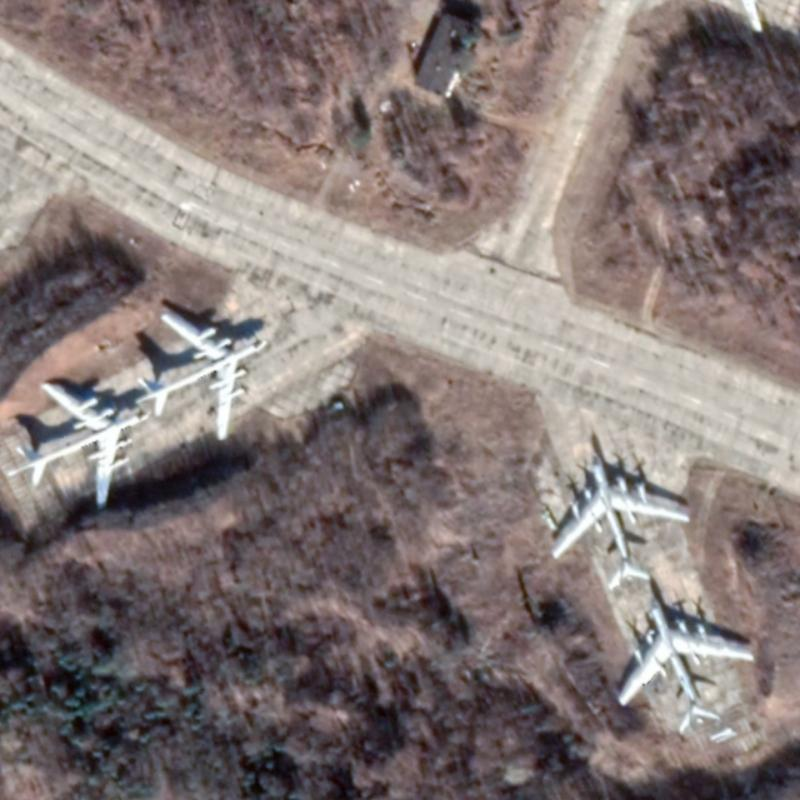A17: (540, 446, 693, 595), (609, 595, 758, 739), (5, 376, 150, 508), (130, 307, 268, 444)
